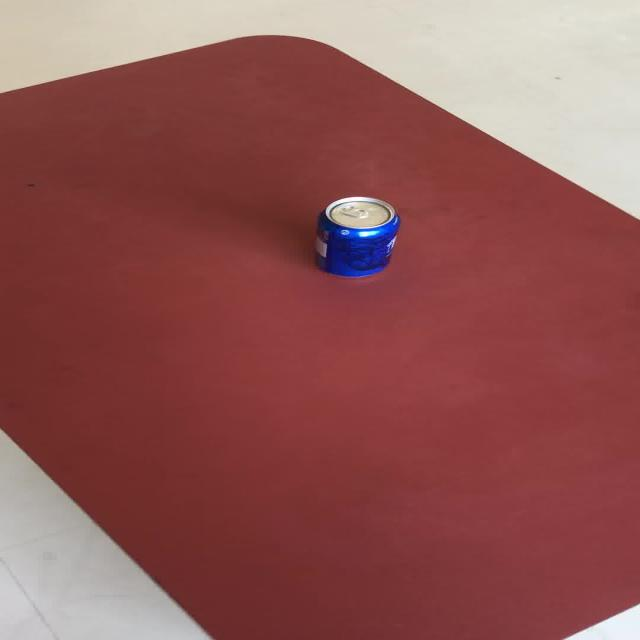tonic: (312, 195, 399, 278)
